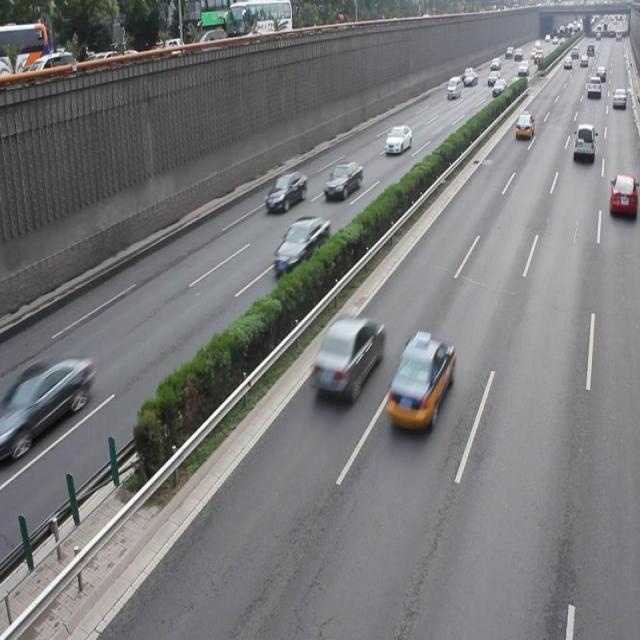car: (1, 353, 92, 449), (383, 335, 454, 433), (310, 314, 382, 403), (272, 215, 330, 278), (264, 170, 307, 213), (323, 161, 362, 202), (608, 173, 640, 220)
